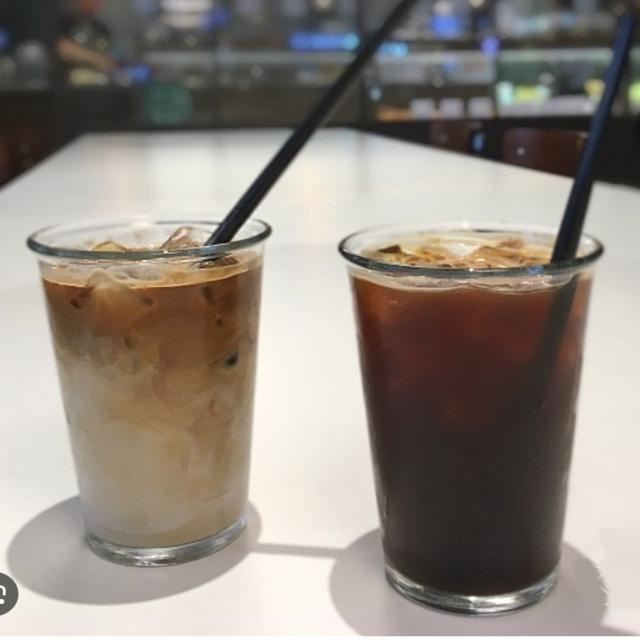recyclable: (334, 208, 603, 618), (25, 194, 308, 575)
